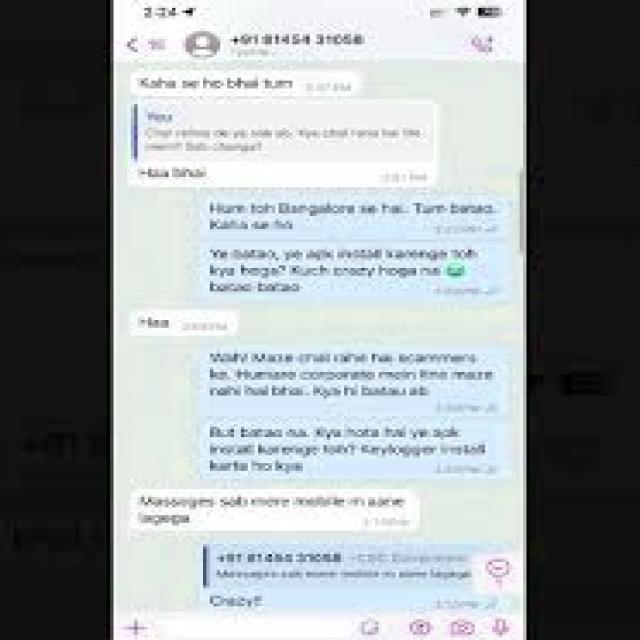scam: (140, 100, 426, 181), (127, 487, 418, 532), (129, 308, 246, 340), (125, 74, 329, 90)
